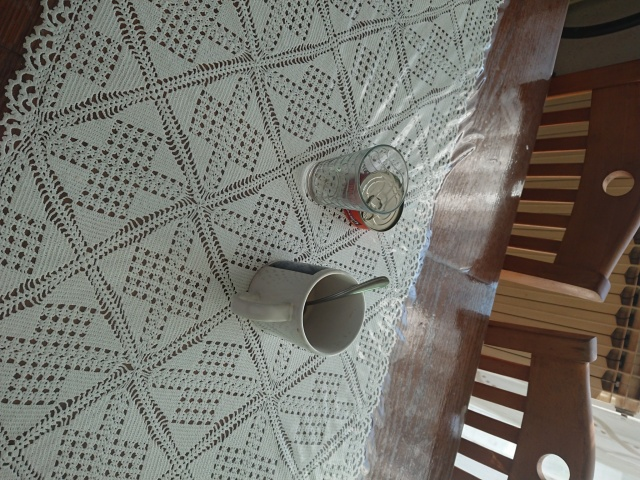Gavrilovic Pork Liver Pate 100g: (340, 167, 405, 232)
